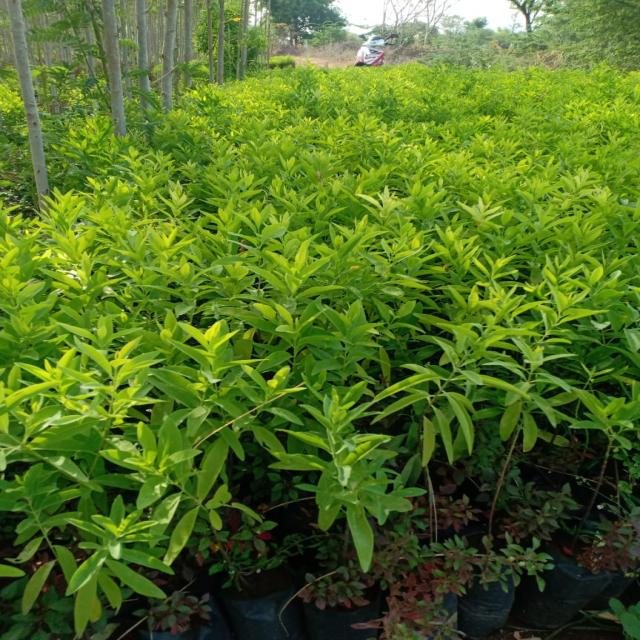Medicinal-Sandalwood: (0, 1, 640, 616)
